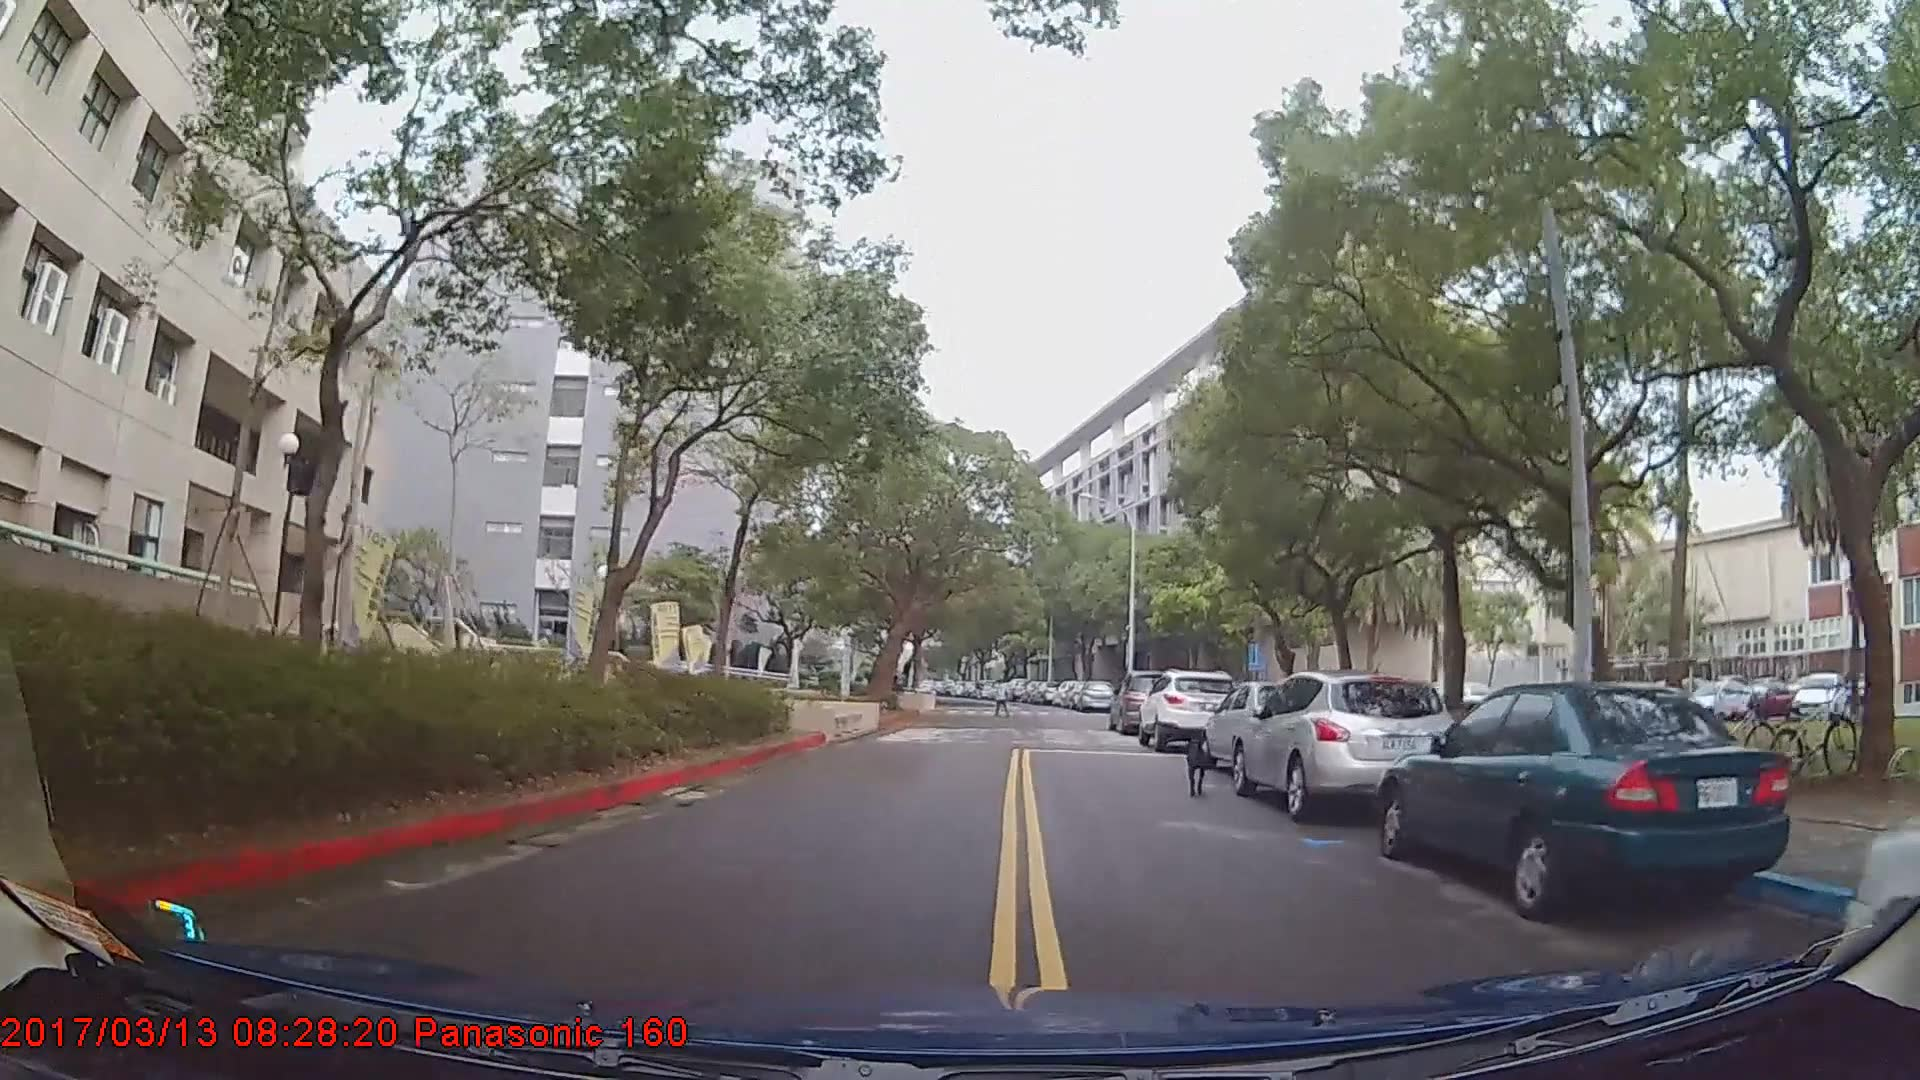pedestrian: (993, 682, 1013, 722)
vehicle: (1378, 682, 1793, 924), (1234, 671, 1459, 823), (1198, 679, 1331, 779), (1139, 668, 1243, 751), (1110, 669, 1188, 734), (1076, 679, 1117, 712)
